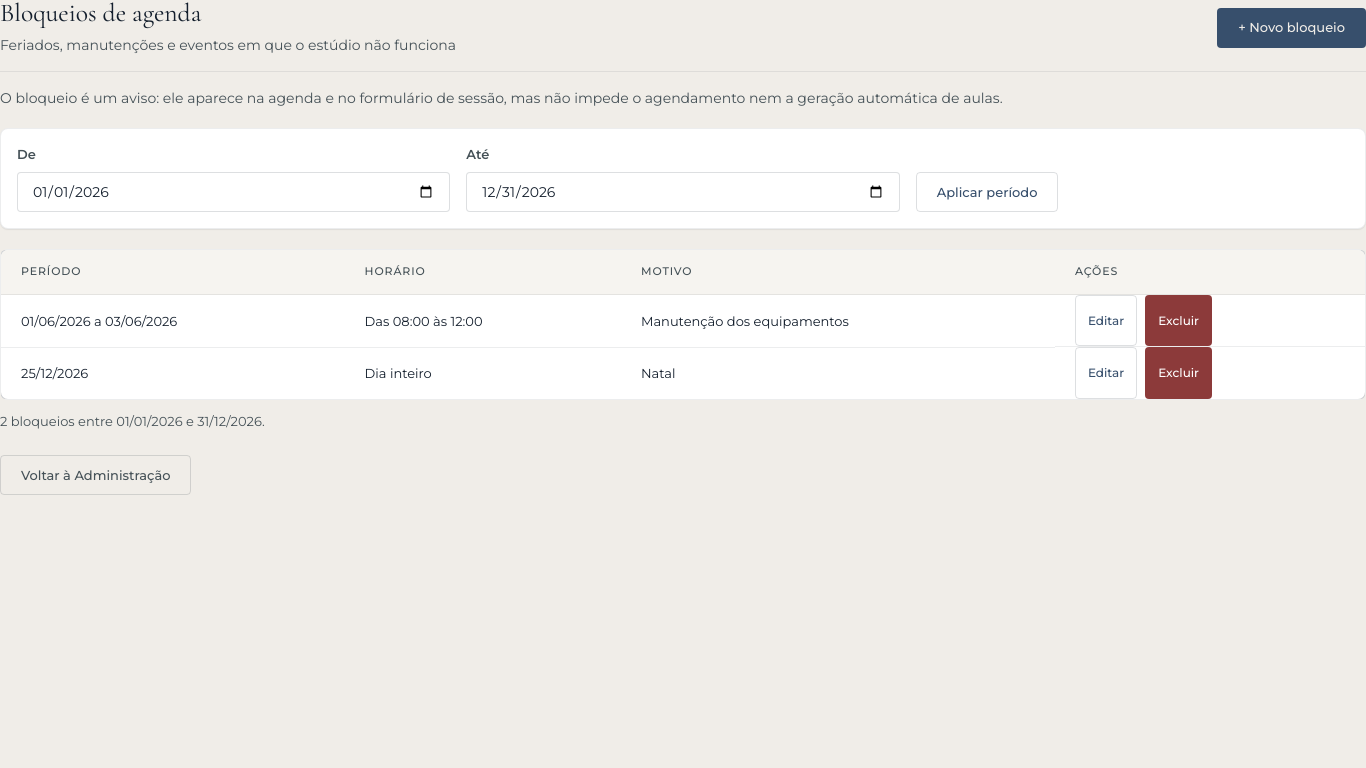
BloqueioListComponent › exclusão › should delete and reload after confirming
Click the button with class "btn-danger" in the row of "01/06/2026 a 03/06/2026" at coordinates (1179, 321), box 1145,295 -> 1212,346
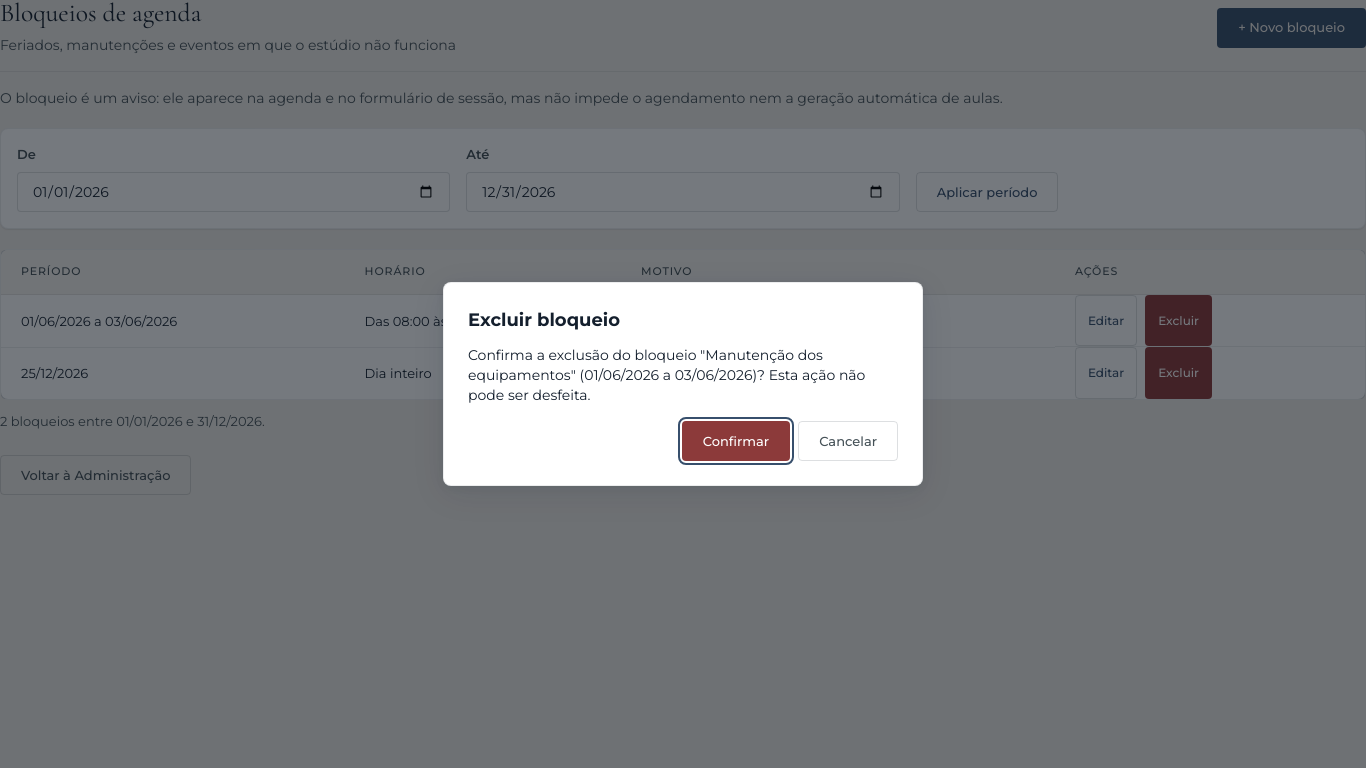
Click the button with class "btn-danger" showing "Confirmar" at coordinates (736, 442), box 682,422 -> 790,462
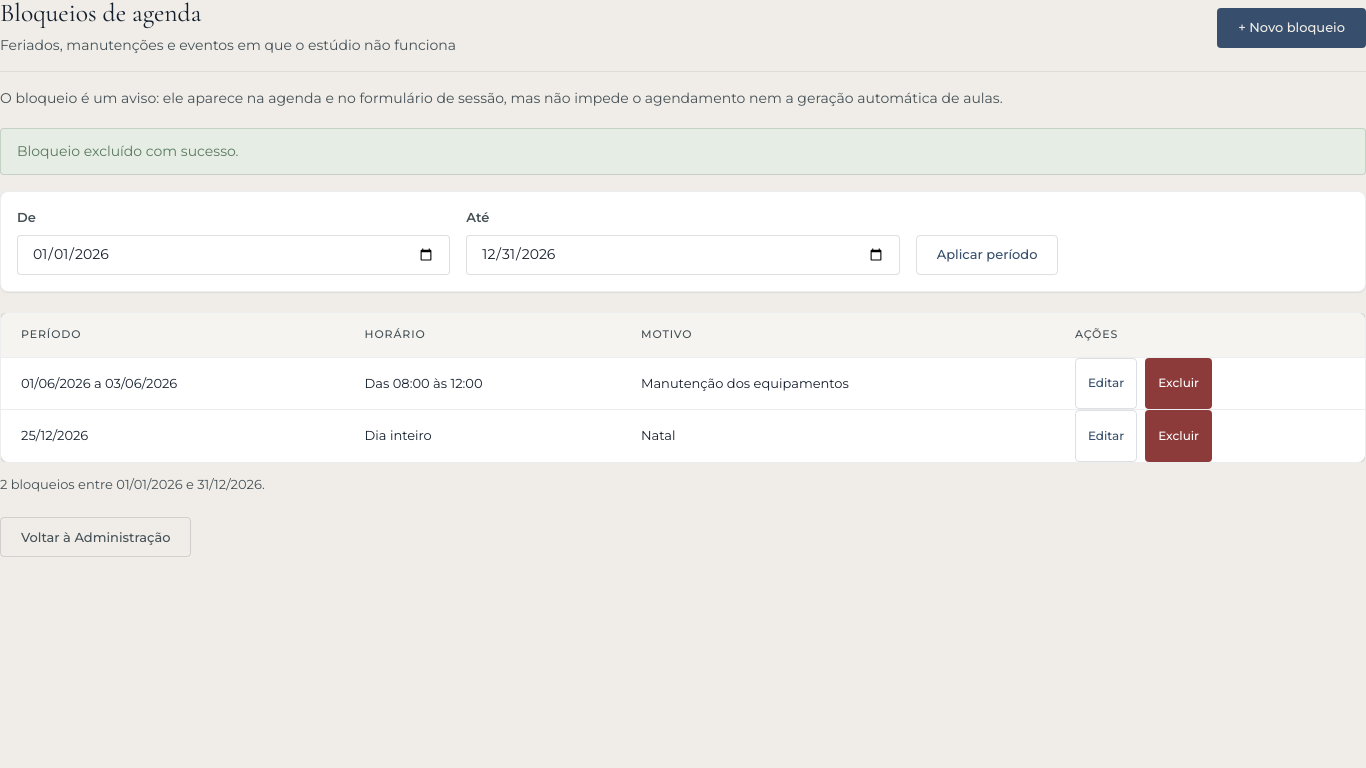
Expected: the message with class "alert-success" reads "Bloqueio excluído com sucesso.", 17,142 -> 238,160
